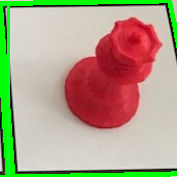Red Queen: (62, 13, 164, 133)
